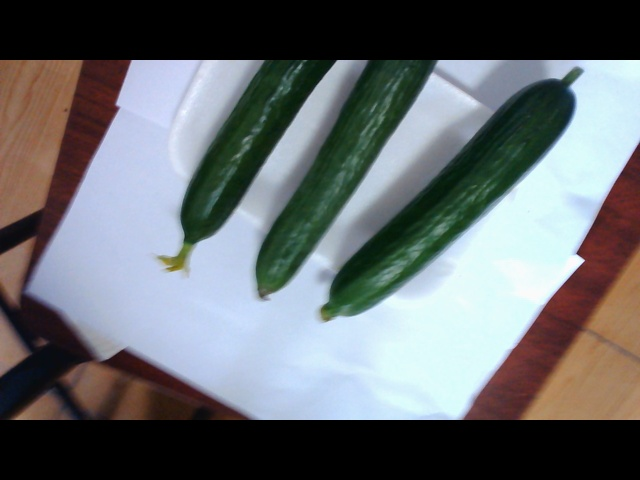cucumber: (287, 65, 566, 311), (155, 64, 301, 238)
